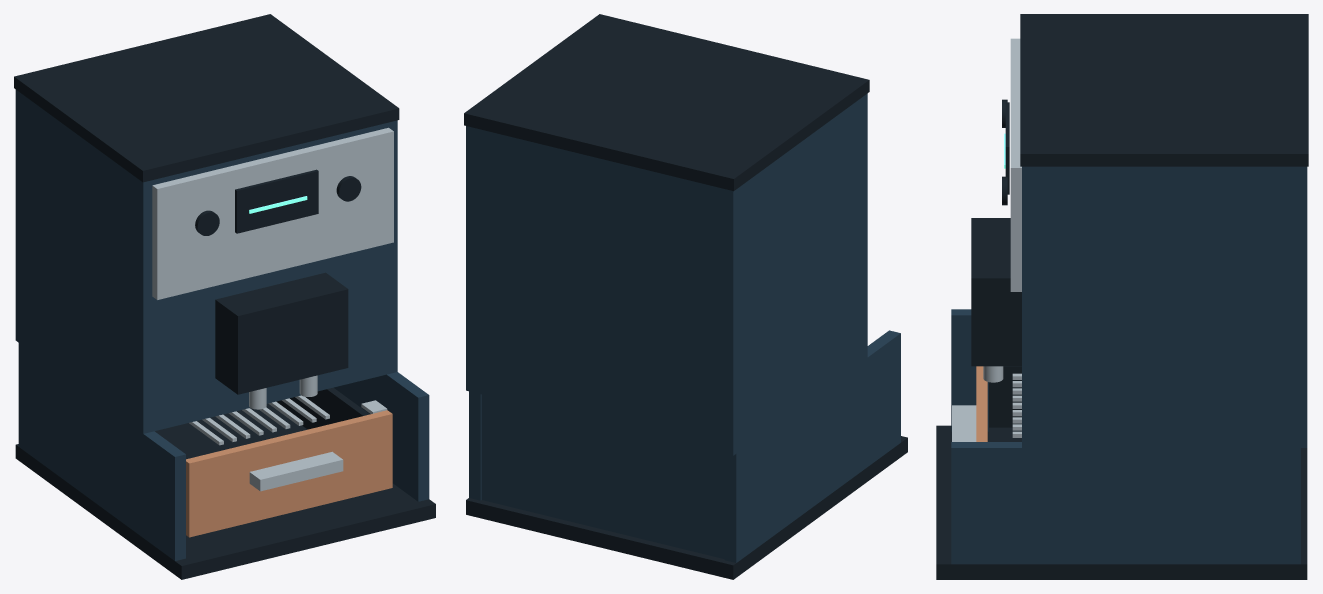
Rendered from machine-cafe-bac-mobile.glb.
3 renders of one model, left to right at view 1: azimuth 30°, elevation 25°; view 2: azimuth 150°, elevation 25°; view 3: azimuth 270°, elevation 25°, orthographic. The views are drawn at different scales.
Parts seen in each view (by area): view 1: Corps_superieur, Couvercle, Fascia_avant, Panneau_gauche, Face_du_bac, Groupe_cafe, Socle, Panneau_droit, Ecran, Fond_du_bac, Poignee, Paroi_droite; view 2: Corps_superieur, Couvercle, Fond_du_logement, Panneau_gauche, Socle, Panneau_droit; view 3: Corps_superieur, Couvercle, Panneau_droit, Socle, Groupe_cafe, Fascia_avant, Panneau_gauche, Paroi_gauche, Poignee, Face_du_bac.
Part boxes in pixels (x1=…): Corps_superieur: x1=15, y1=89, x2=397, y2=433; Couvercle: x1=14, y1=14, x2=399, y2=182; Fascia_avant: x1=152, y1=127, x2=393, y2=299; Panneau_gauche: x1=18, y1=343, x2=185, y2=560; Face_du_bac: x1=186, y1=410, x2=392, y2=537; Groupe_cafe: x1=215, y1=272, x2=348, y2=394; Socle: x1=15, y1=444, x2=435, y2=579; Panneau_droit: x1=334, y1=372, x2=429, y2=501; Ecran: x1=235, y1=169, x2=318, y2=233; Fond_du_bac: x1=155, y1=403, x2=307, y2=459; Poignee: x1=249, y1=451, x2=343, y2=491; Paroi_droite: x1=276, y1=387, x2=369, y2=429; Corps_superieur: x1=466, y1=93, x2=867, y2=455; Couvercle: x1=464, y1=14, x2=869, y2=191; Fond_du_logement: x1=481, y1=394, x2=724, y2=559; Panneau_gauche: x1=724, y1=330, x2=900, y2=562; Socle: x1=466, y1=436, x2=907, y2=579; Panneau_droit: x1=469, y1=391, x2=481, y2=500; Corps_superieur: x1=1022, y1=166, x2=1307, y2=447; Couvercle: x1=1020, y1=14, x2=1308, y2=166; Panneau_droit: x1=951, y1=442, x2=1300, y2=564; Socle: x1=936, y1=425, x2=1307, y2=579; Groupe_cafe: x1=971, y1=218, x2=1021, y2=366; Fascia_avant: x1=1010, y1=38, x2=1021, y2=291; Panneau_gauche: x1=951, y1=309, x2=988, y2=431; Paroi_gauche: x1=989, y1=366, x2=1021, y2=427; Poignee: x1=952, y1=405, x2=976, y2=441; Face_du_bac: x1=976, y1=366, x2=987, y2=441.
Size of the model in its own units: 0.232 by 0.33 by 0.261.
